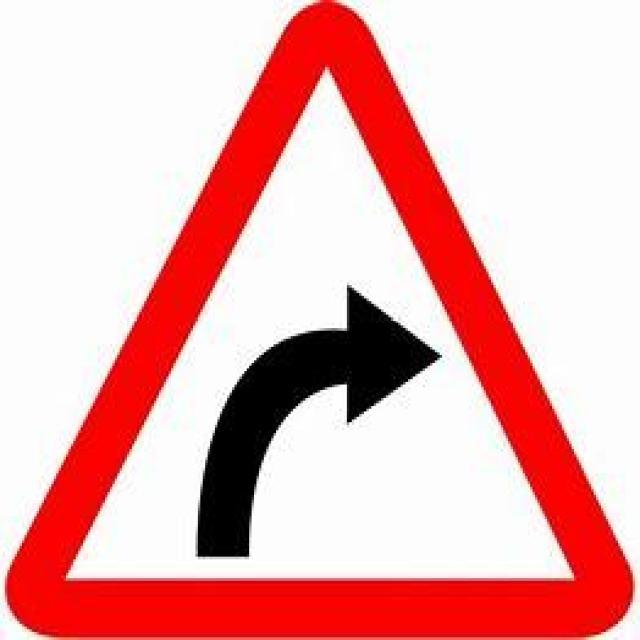right hand curve: (22, 21, 618, 617)
